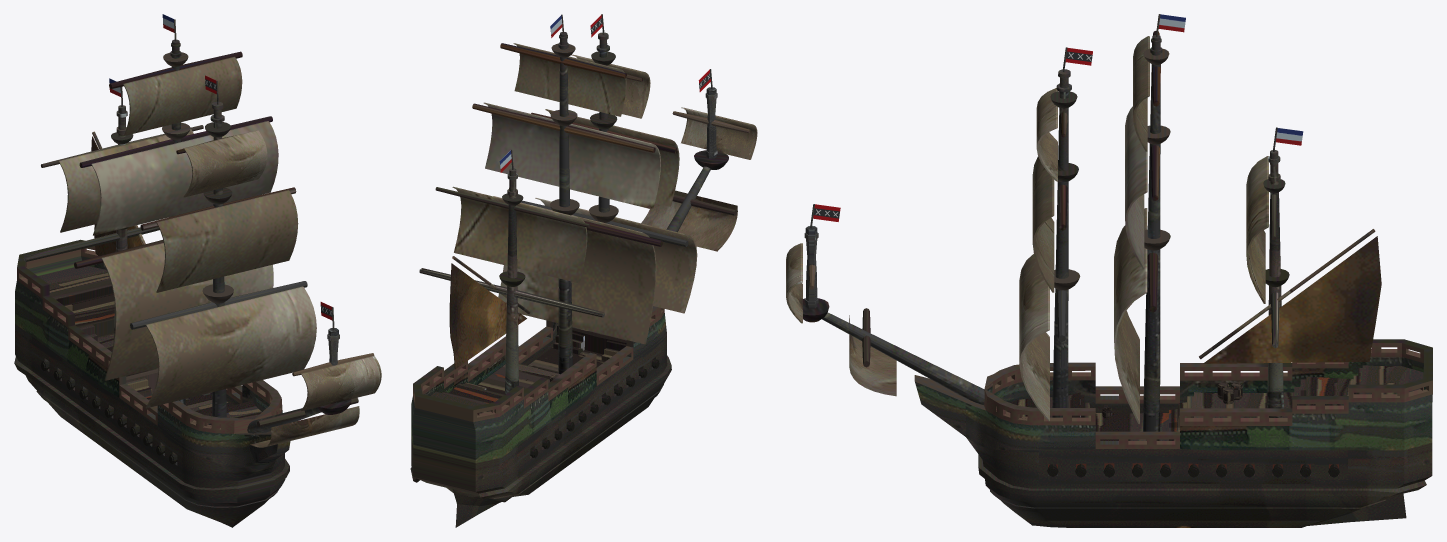
The model's file is KapalDeBatavia.fbx.
3 views of the same model, side by side, from view 1: azimuth 30°, elevation 25°; view 2: azimuth 150°, elevation 25°; view 3: azimuth 270°, elevation 25° (orthographic). The views are drawn at different scales.
Parts seen in each view (by area): view 1: Kapal_applyMirror.005; view 2: Kapal_applyMirror.005; view 3: Kapal_applyMirror.005.
Boxes of the visible parts, left/top/right/bottom form: Kapal_applyMirror.005: left=14, top=14, right=381, bottom=527; Kapal_applyMirror.005: left=410, top=14, right=757, bottom=527; Kapal_applyMirror.005: left=786, top=14, right=1432, bottom=527.
Bounding box in the file's own units: 1.73 × 4.35 × 3.8.
Materials: 1 (1 with a texture image).
